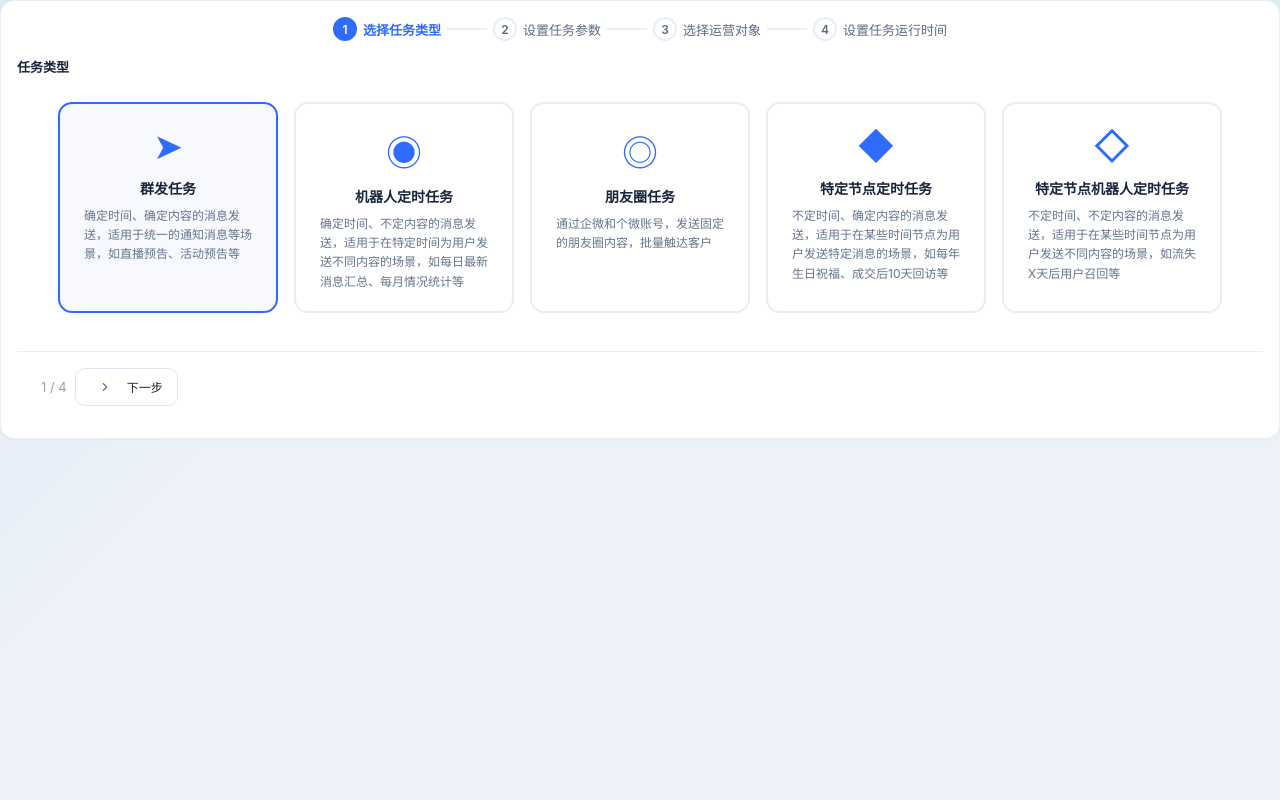
OperationTaskCreatePage — GroupTab 修复验证 › Step 3: GroupTab → canNext → 下一步按钮可用 › 切换到「通过客户分组选择」Tab 后，勾选分组 → 「下一步」按钮变为可用
Note: Navigate to Step 3
Click the button "下一步": (126, 387) [75,368,178,406]
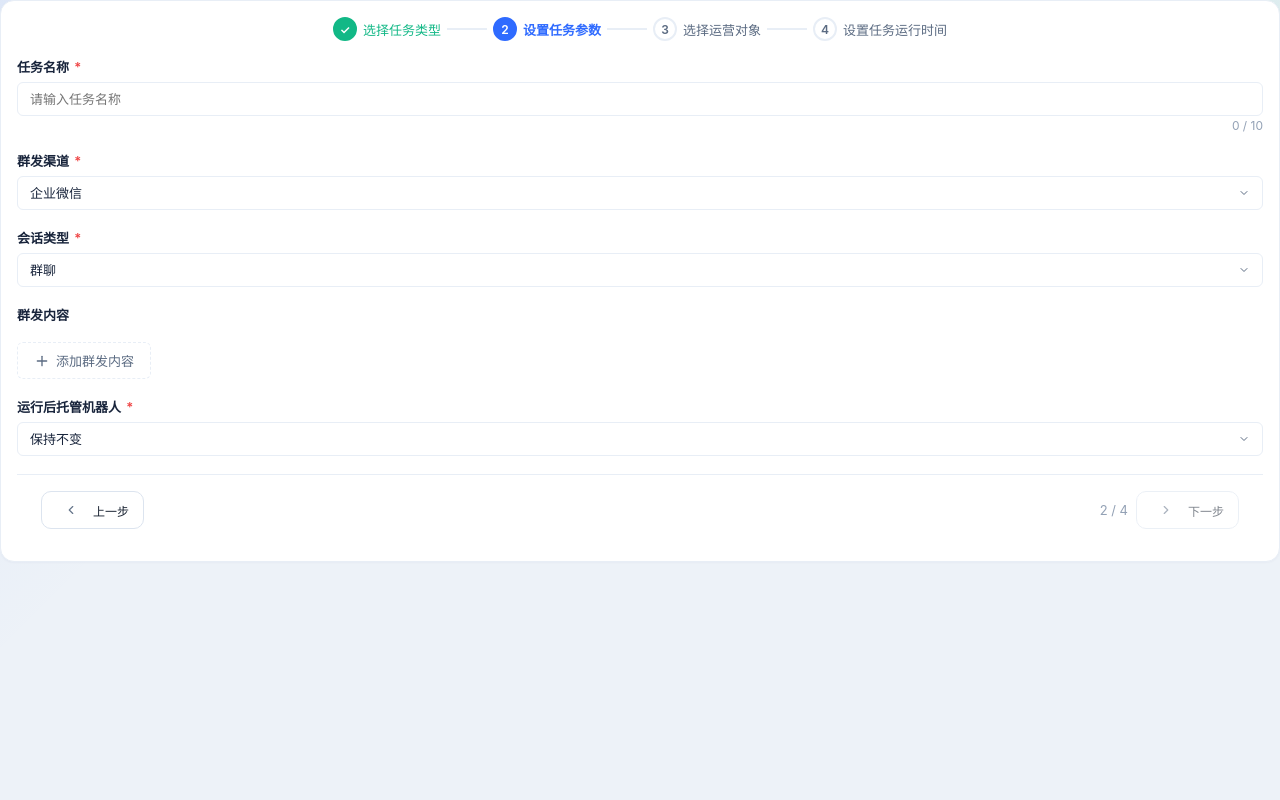
In the field with placeholder "请输入任务名称": (640, 99) [17,82,1263,116], type "测试"
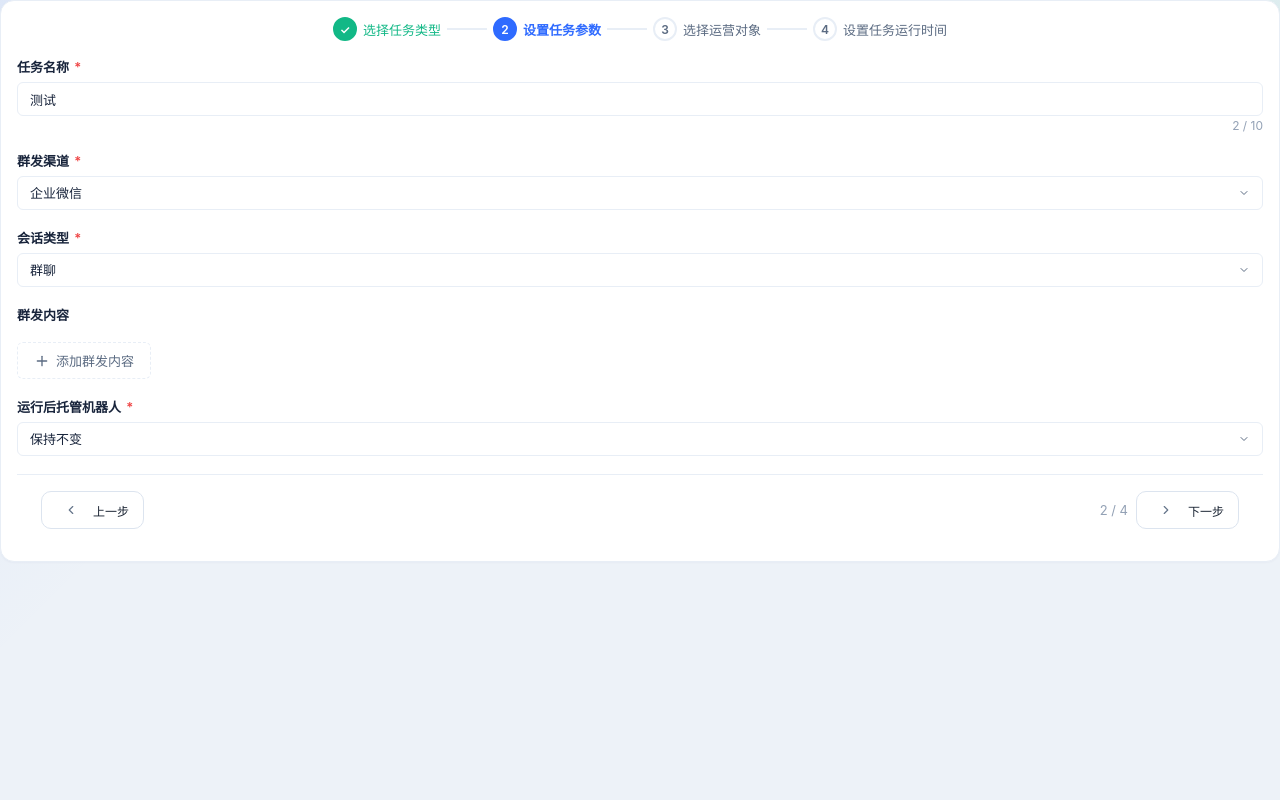
Click the button "下一步": (1188, 510) [1136,491,1239,529]
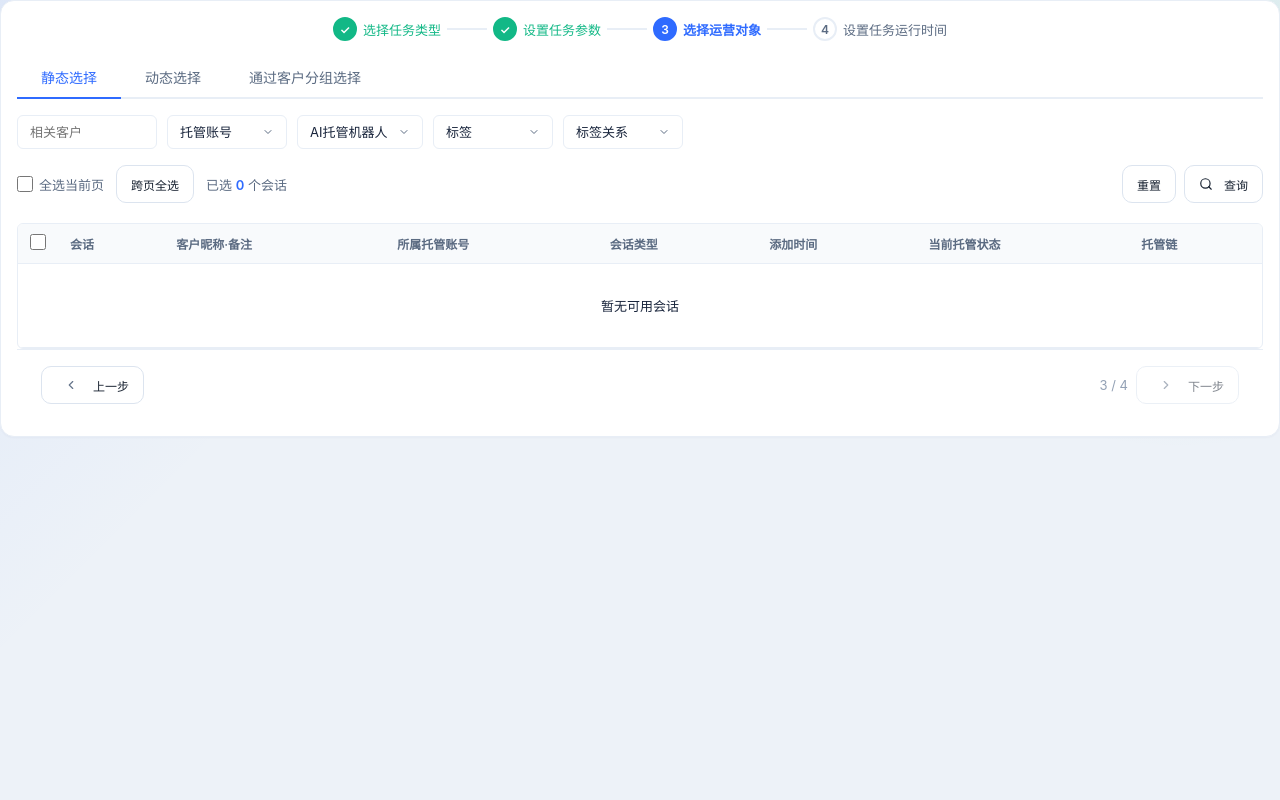
expect the button "静态选择" is shown: met, box [17,57,121,99]
Note: 切换到 GroupTab
Click the button "通过客户分组选择": (305, 78) [225,57,385,99]
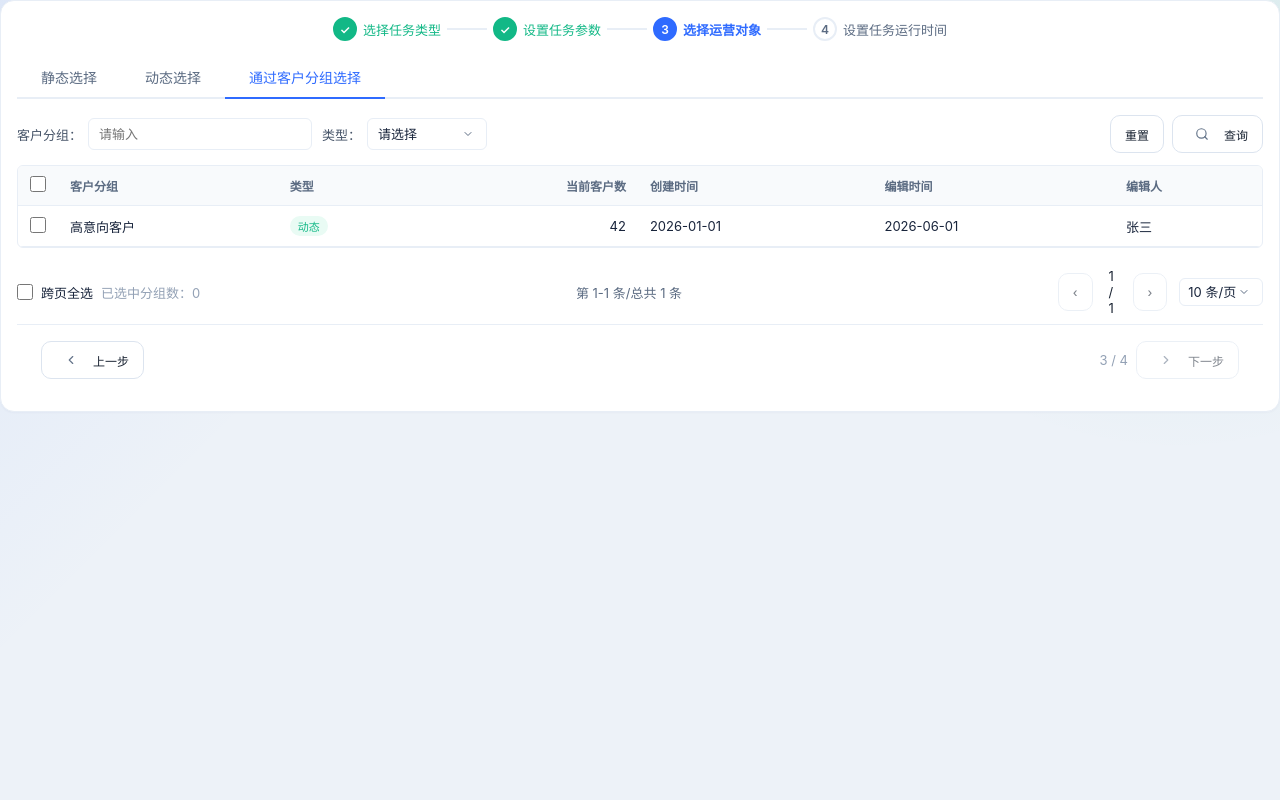
expect the button "下一步" is disabled: met, box [1136,341,1239,379]
expect the checkbox next to "高意向客户" is shown: met
expect the text "高意向客户" is shown: met, box [58,206,278,246]
Click the checkbox next to "高意向客户": (38, 224) [30,216,46,232]
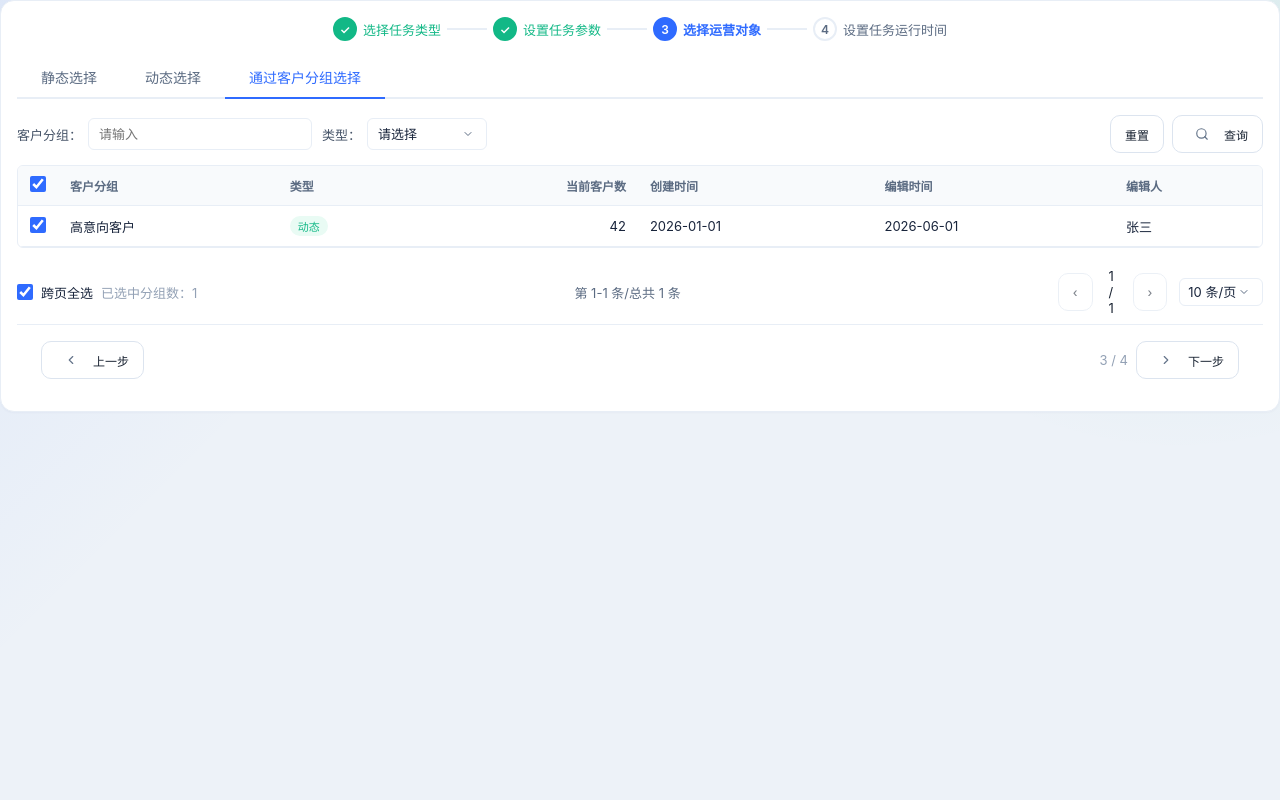
expect the button "下一步" is enabled: met, box [1136,341,1239,379]
